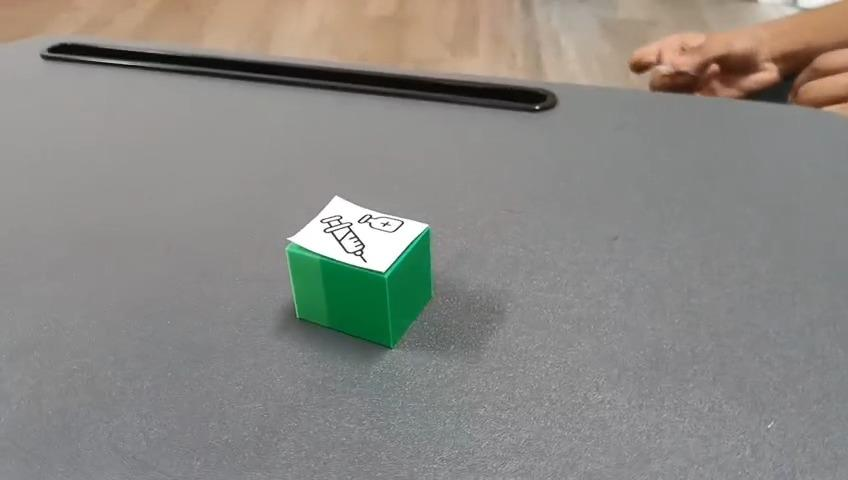antiseptic cream: (283, 193, 435, 349)
